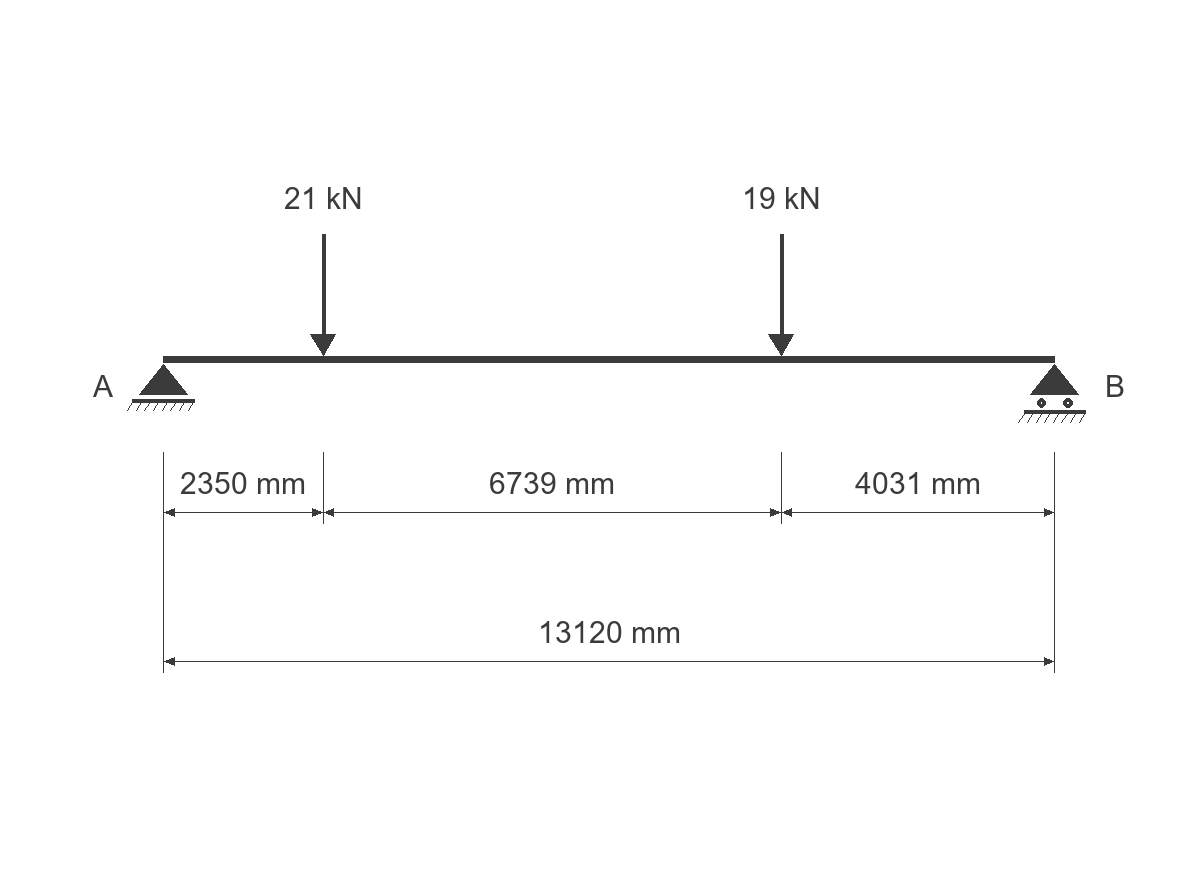pin_support: (127, 364, 195, 411)
point_load: (310, 234, 336, 356), (768, 234, 794, 356)
roller_support: (1018, 364, 1086, 423)
